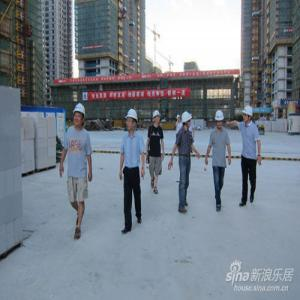white: (73, 103, 86, 127), (126, 109, 139, 133), (182, 111, 194, 129), (243, 106, 254, 124), (216, 110, 226, 129), (153, 109, 162, 126), (177, 115, 182, 124)
